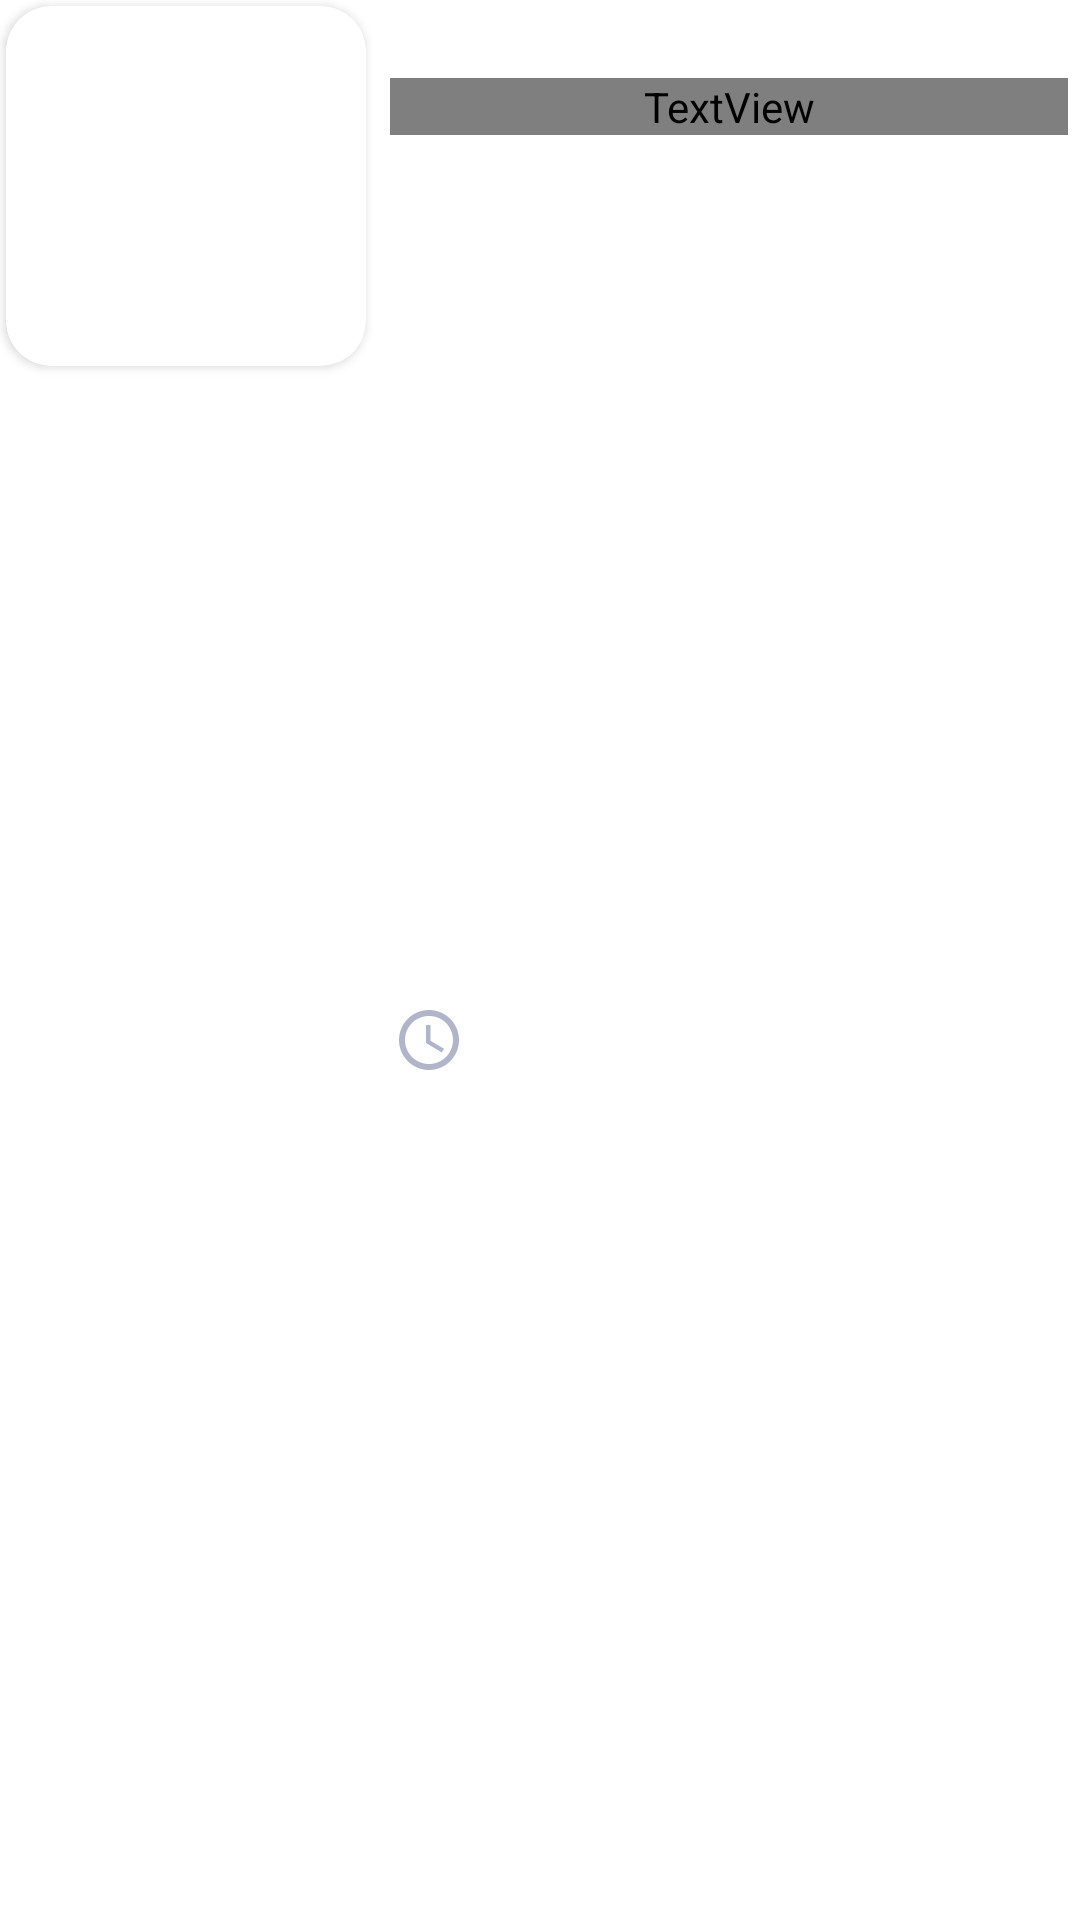

Named icons in this screenshot (1080x1920) and their centers, (x,y):
time: (429,1040)
